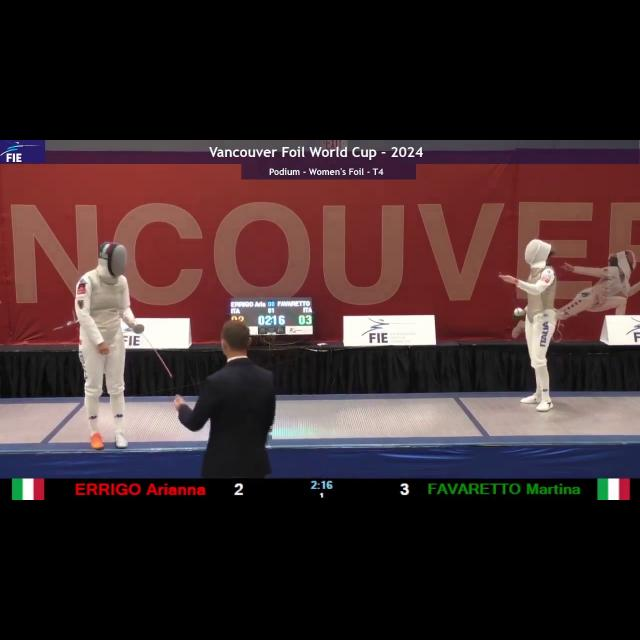blade: (132, 322, 176, 382), (498, 269, 526, 319)
